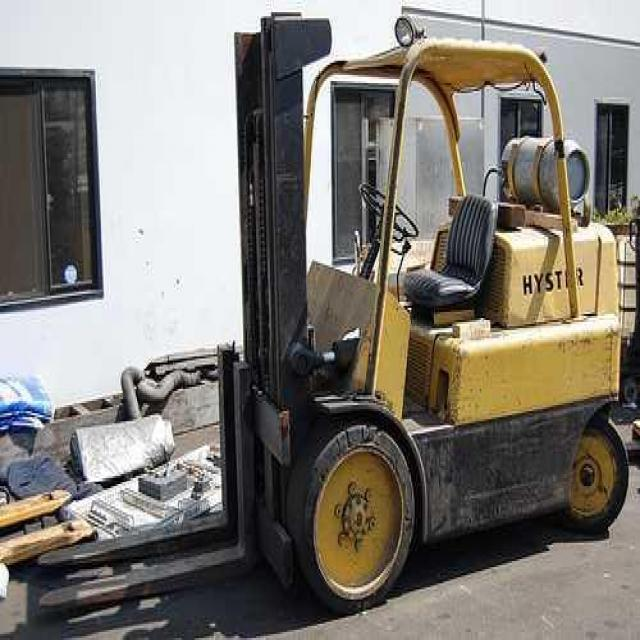Chariot elevateur: (36, 8, 628, 620)
